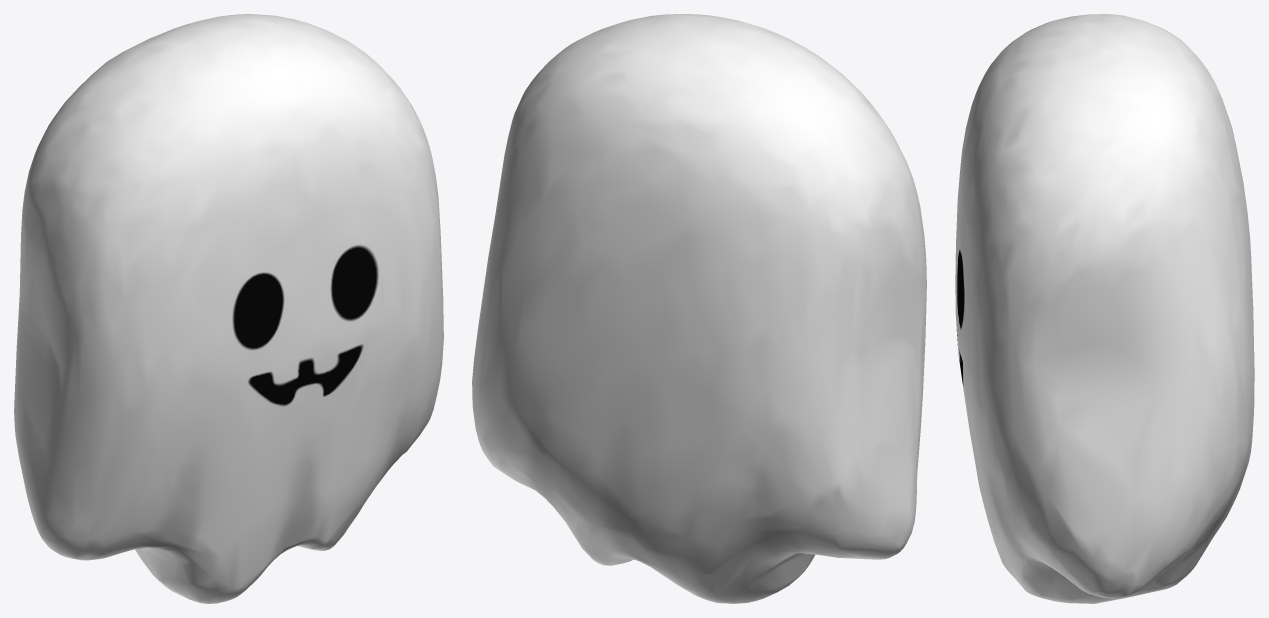
File: ghost_textured.fbx
The picture shows the model from 3 angles, left to right: view 1: azimuth 30°, elevation 25°; view 2: azimuth 150°, elevation 25°; view 3: azimuth 270°, elevation 25°; orthographic projection. The views are drawn at different scales.
Parts seen in each view (by area): view 1: PolySphere; view 2: PolySphere; view 3: PolySphere.
Part boxes in pixels (bbox=[...]): PolySphere: bbox=[14, 14, 443, 603]; PolySphere: bbox=[472, 14, 926, 603]; PolySphere: bbox=[955, 14, 1254, 603].
Bounding box in the file's own units: 0.9608 × 1.26 × 0.6194.
1 material, 1 textured.
